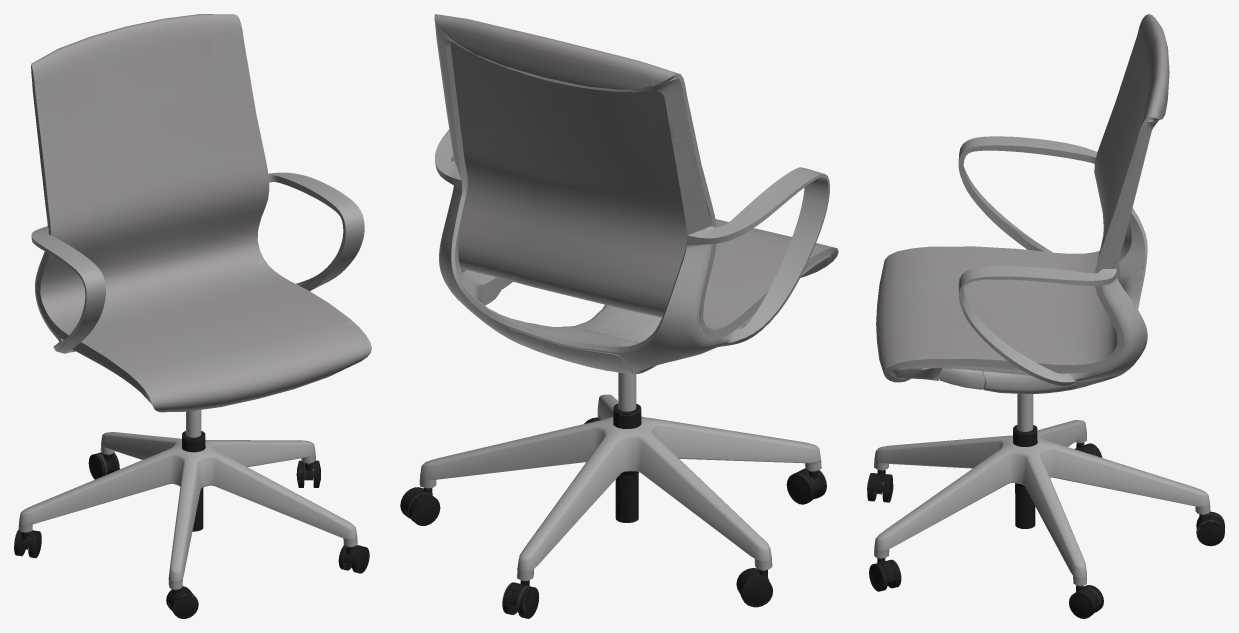
The model's file is volta_chair.glb.
3 views of the same model, side by side, from view 1: azimuth 30°, elevation 25°; view 2: azimuth 150°, elevation 25°; view 3: azimuth 270°, elevation 25° (orthographic). The views are drawn at different scales.
Parts seen in each view (by area): view 1: marics_chair; view 2: marics_chair; view 3: marics_chair.
Part boxes in pixels (x1,y1,x2,y2): marics_chair: [14, 14, 371, 618]; marics_chair: [400, 14, 838, 618]; marics_chair: [867, 14, 1224, 618].
Size of the model in its own units: 0.6963 by 1.01 by 0.6732.
Materials: 1 (1 with a texture image).
